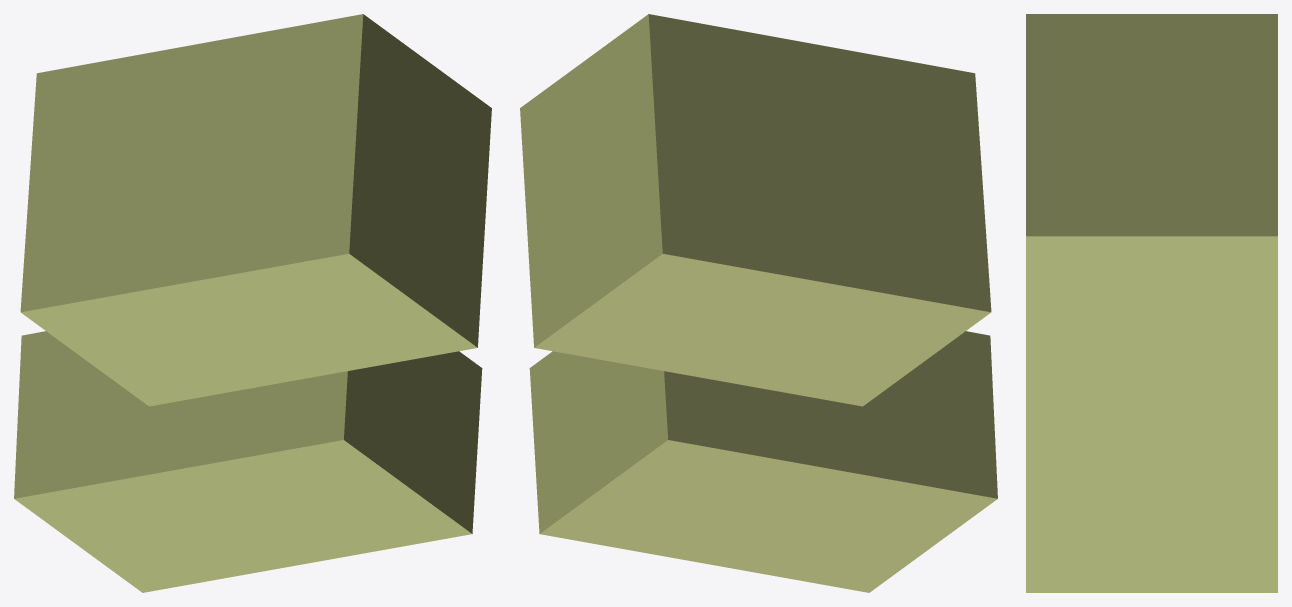
3 renders of one model, left to right at view 1: azimuth 30°, elevation 25°; view 2: azimuth 150°, elevation 25°; view 3: azimuth 270°, elevation 25°, orthographic. The views are drawn at different scales.
Visible parts, largest first — view 1: 0_1_2_0_0_2_2_0_3_1_1; view 2: 0_1_2_0_0_2_2_0_3_1_1; view 3: 0_1_2_0_0_2_2_0_3_1_1.
Part boxes in pixels (bbox=[...]): 0_1_2_0_0_2_2_0_3_1_1: bbox=[14, 14, 491, 592]; 0_1_2_0_0_2_2_0_3_1_1: bbox=[520, 14, 997, 592]; 0_1_2_0_0_2_2_0_3_1_1: bbox=[1026, 14, 1277, 592].
Bounding box in the file's own units: 9.41 × 11.36 × 6.
